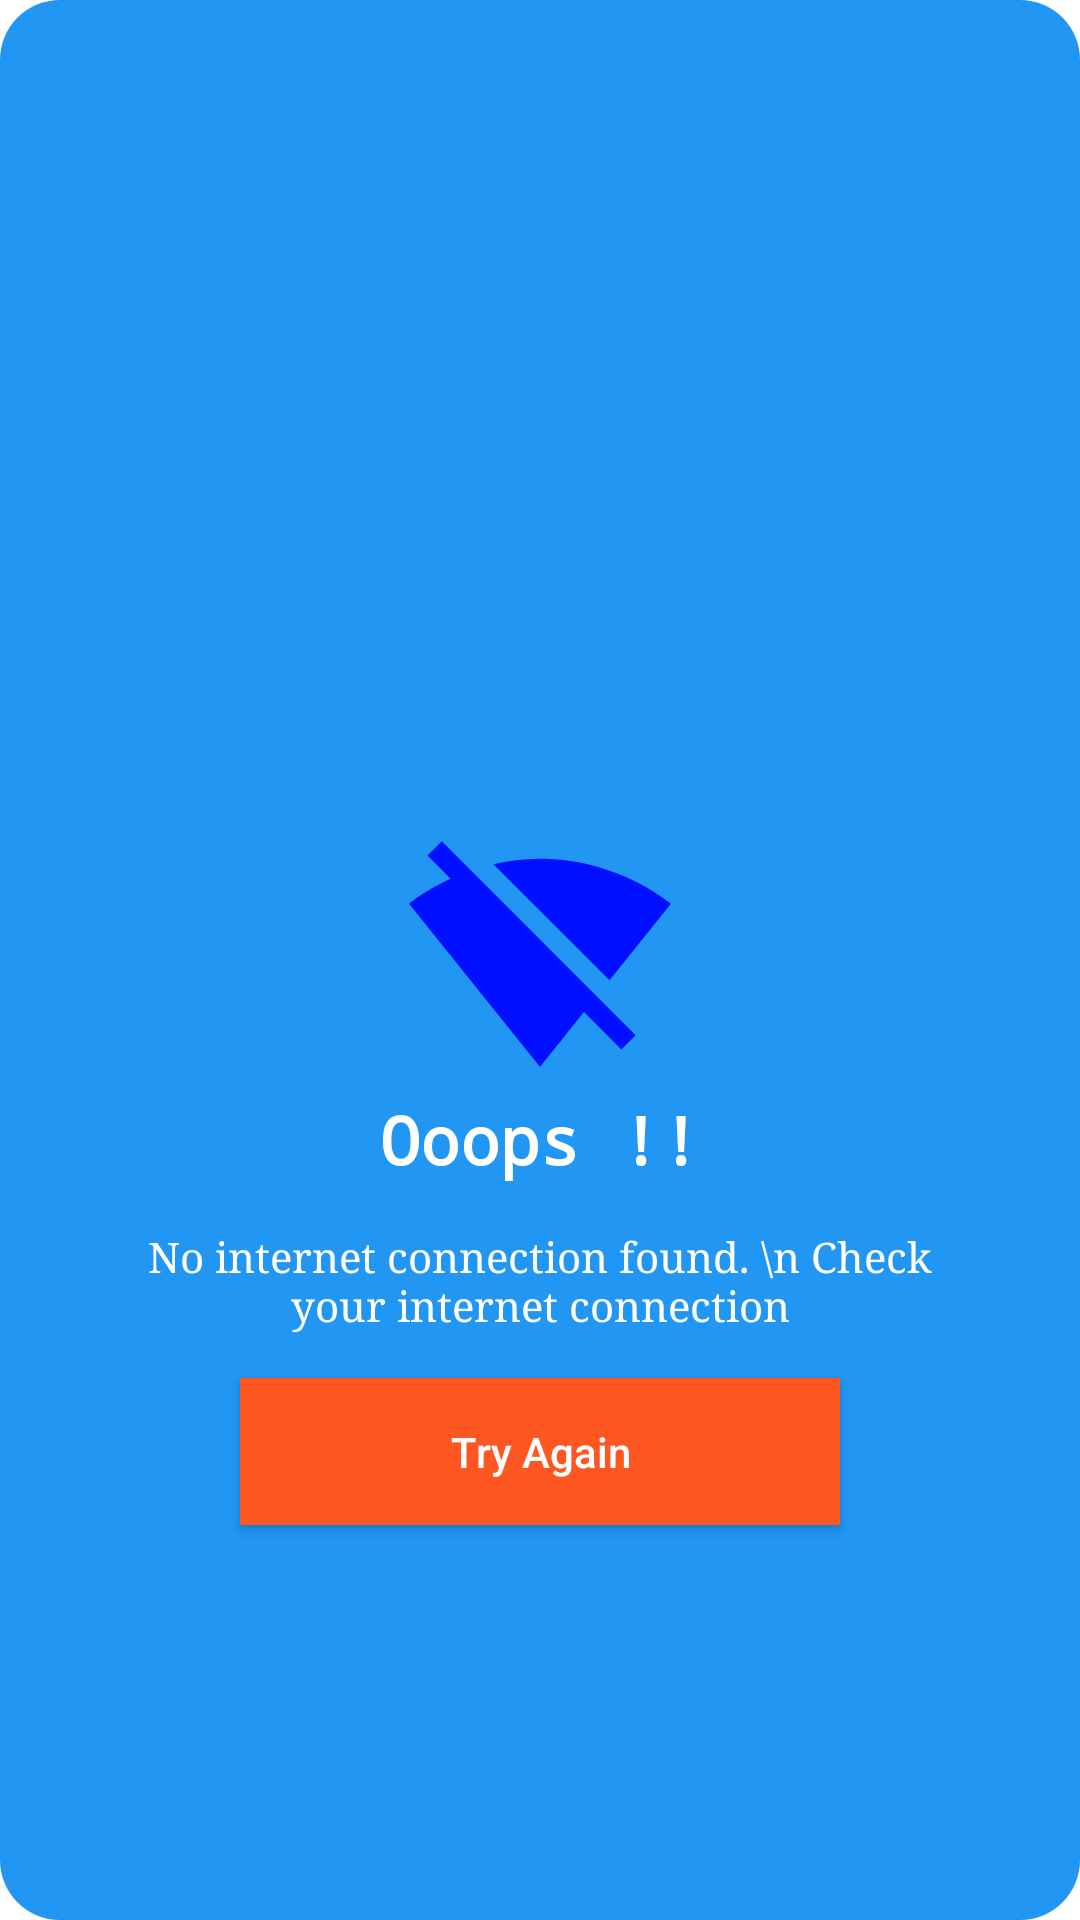

Screen size 1080 × 1920. Icon name, then its box in pixels as (x1, y1, x2, y2):
no wifi: (409, 841, 671, 1067)
